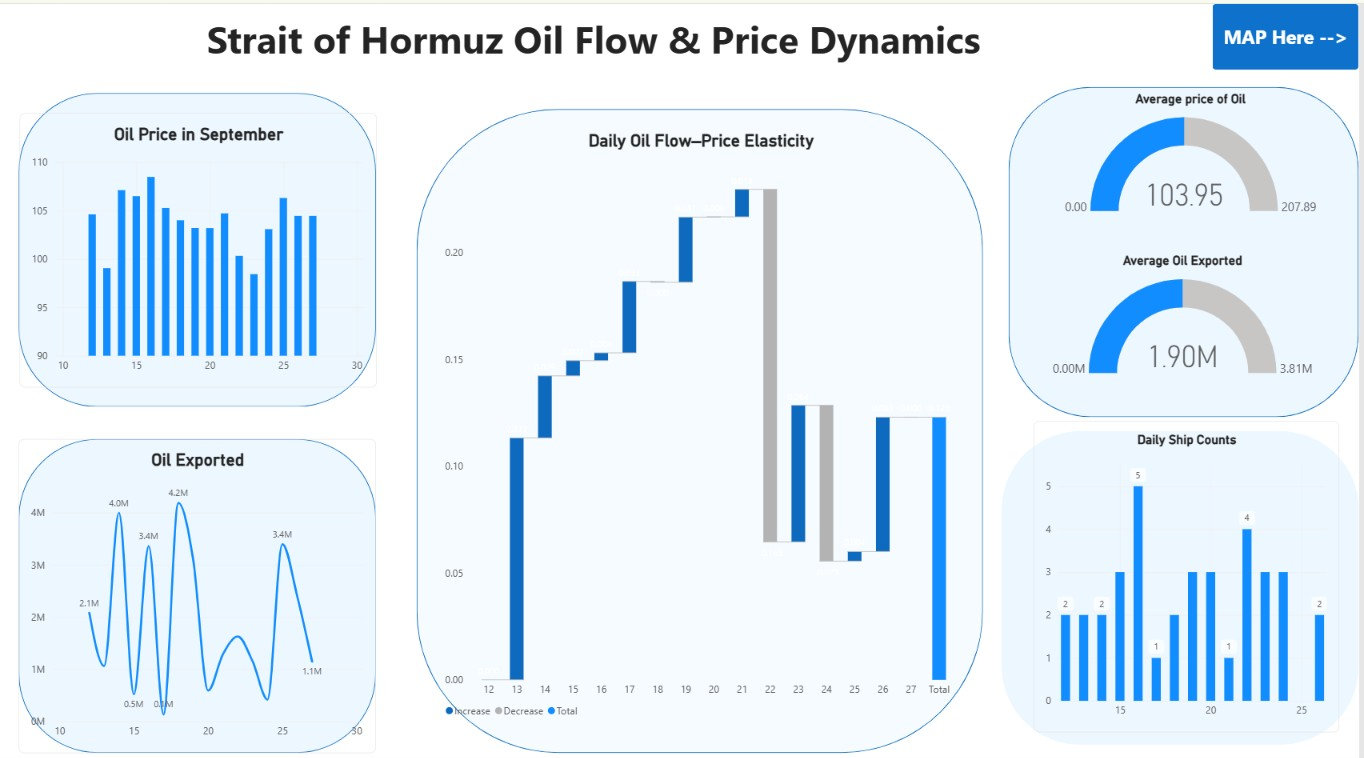

This screenshot's page, from the dashboard's own definition file:
{"tool":"powerbi","page":{"name":"Page 1","canvas":[1920,1080],"ordinal":0},"visuals":[{"type":"group","id":"g1","title":"Group 1","box":[29.7,117.6,1890.7,939.4],"z":0},{"type":"shape","box":[29.7,125.6,504.1,442.7],"z":0,"group":"g1"},{"type":"clusteredColumnChart","title":"Oil Price in September","fields":{"Category":["oil_price.Day"],"Y":["Sum(oil_price.brent_open_usd_bbl)"]},"box":[31.4,153.5,504.1,387.2],"z":1000},{"type":"shape","box":[29.7,614.2,504.1,442.7],"z":1000,"group":"g1"},{"type":"shape","box":[1425.7,117.6,493.6,465.7],"z":2000,"group":"g1"},{"type":"lineChart","title":"Oil Exported","fields":{"Category":["oil.Day"],"Y":["Sum(oil.oil_estimated_bbl)"]},"box":[29.7,614,504.1,443],"z":2000},{"type":"waterfallChart","title":"Daily Oil Flow–Price Elasticity","fields":{"Category":["oil (2).date.Variation.Date Hierarchy.Day"],"Y":["Sum(oil (2).%)"]},"box":[615.7,164,755.2,863.4],"z":3000},{"type":"shape","box":[1416.3,602.8,504.1,442.7],"z":3000,"group":"g1"},{"type":"shape","box":[591.3,148.5,798.8,908.4],"z":4000,"group":"g1"},{"type":"lineClusteredColumnComboChart","title":"Daily Ship Counts","fields":{"Category":["tanker.Day"],"Y":["CountNonNull(tanker.detected_at_utc)"]},"box":[1461.6,587.8,430.8,439.5],"z":4000},{"type":"actionButton","box":[1714.5,0,205.8,92.4],"z":5000},{"type":"gauge","title":"Average price of Oil","fields":{"Y":["Avg(OilPriceData.brent_open_usd_bbl)"]},"box":[1472.1,108.1,420.4,204.1],"z":6000},{"type":"gauge","title":"Average Oil Exported","fields":{"Y":["Avg(oil.oil_estimated_bbl)"]},"box":[1461.6,336.6,420.4,204.1],"z":7000},{"type":"textbox","box":[99.4,12.2,1484.3,141.3],"z":7001}]}

Visuals, with their boxes in screenshot pixels (x1, y1, x2, y2), scaled from the page's 1920x1080 canvas onto the 1364x758 screenshot:
"Group 1" group: box=[21, 83, 1363, 742]
shape: box=[21, 88, 379, 399]
"Oil Price in September" clusteredColumnChart: box=[22, 108, 380, 379]
shape: box=[21, 431, 379, 742]
shape: box=[1013, 83, 1363, 409]
"Oil Exported" lineChart: box=[21, 431, 379, 742]
"Daily Oil Flow–Price Elasticity" waterfallChart: box=[437, 115, 974, 721]
shape: box=[1006, 423, 1363, 734]
shape: box=[420, 104, 988, 742]
"Daily Ship Counts" lineClusteredColumnComboChart: box=[1038, 413, 1344, 721]
actionButton: box=[1218, 0, 1363, 65]
"Average price of Oil" gauge: box=[1046, 76, 1344, 219]
"Average Oil Exported" gauge: box=[1038, 236, 1337, 379]
textbox: box=[71, 9, 1125, 108]
